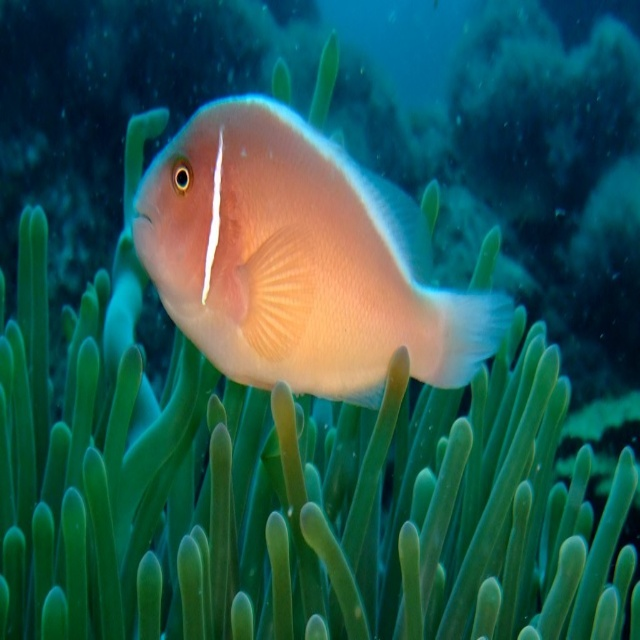Fish: (132, 93, 516, 411)
